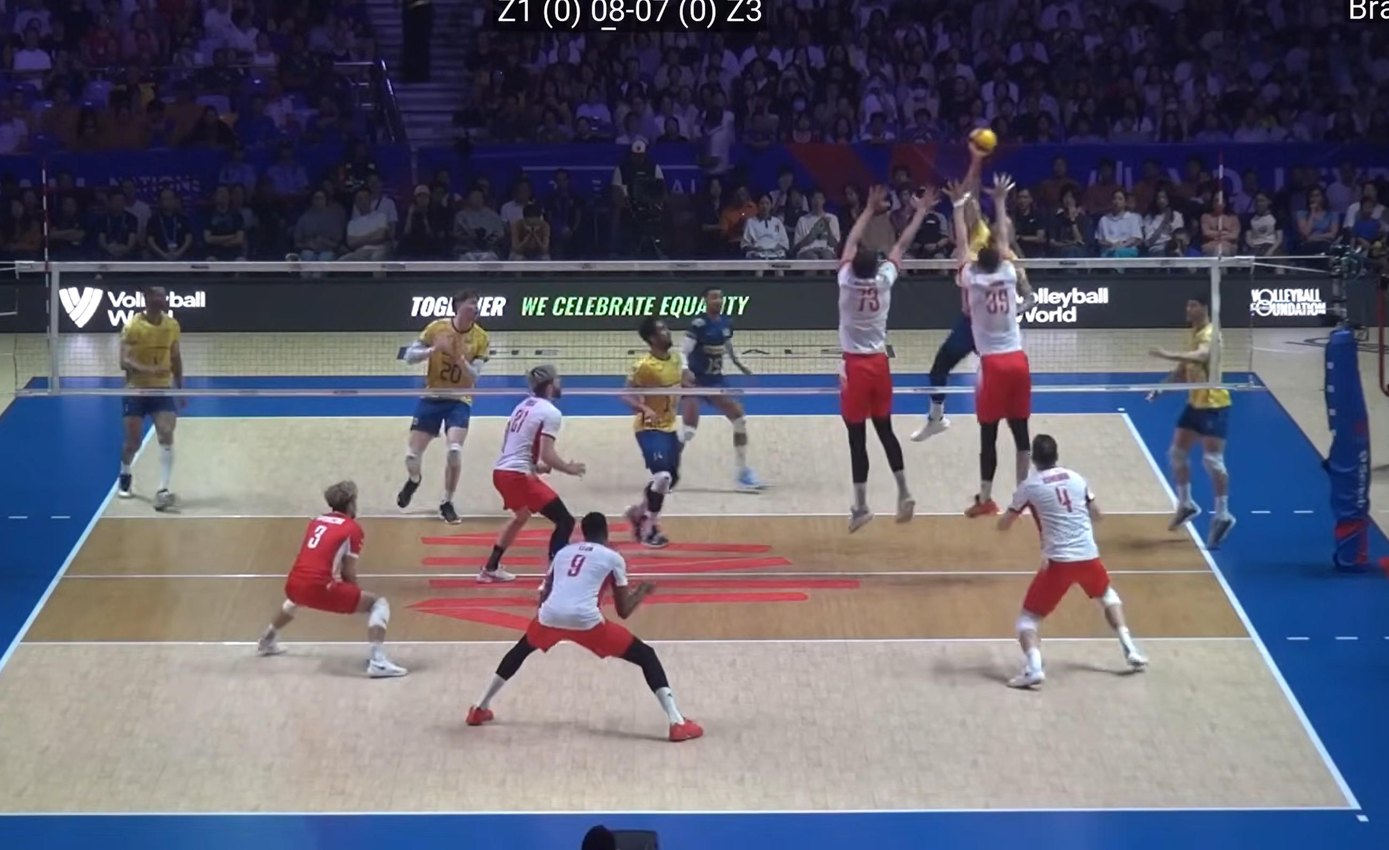Attack: (913, 133, 996, 445)
Block: (946, 172, 1035, 522), (831, 177, 916, 535)
Player: (466, 511, 704, 741), (1000, 434, 1146, 687), (257, 482, 407, 677), (393, 287, 489, 523), (482, 367, 583, 583), (1154, 298, 1234, 545), (675, 286, 762, 492), (116, 292, 184, 512), (622, 315, 685, 545)
ball: (970, 128, 997, 153)
